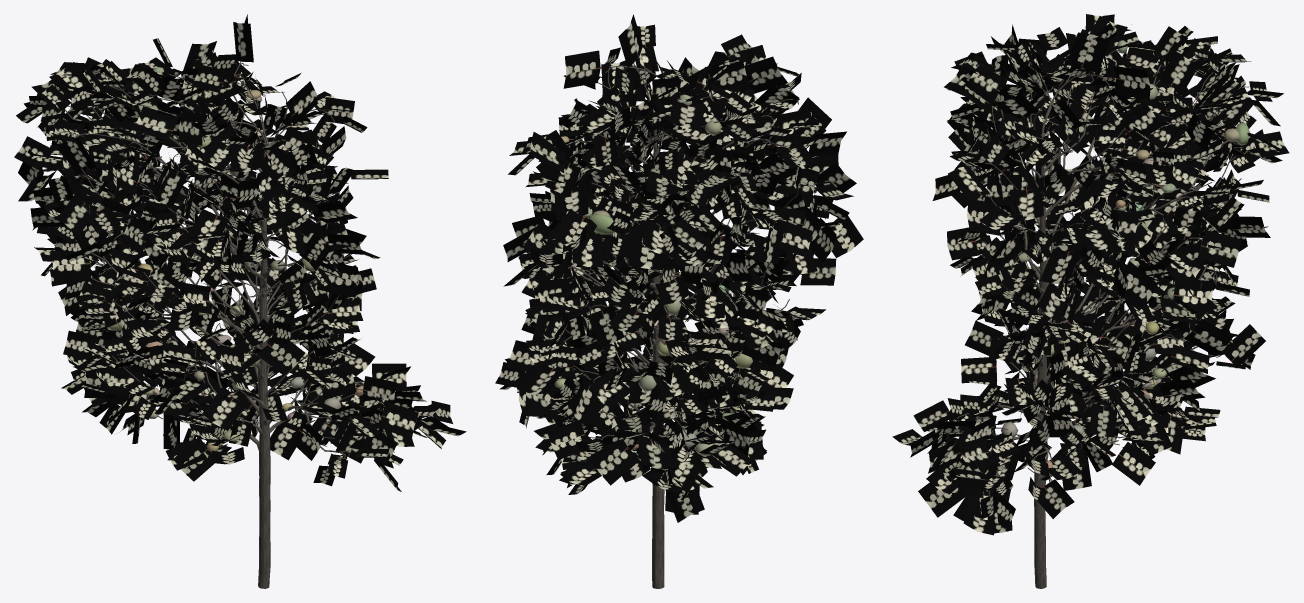
File: tree_08_ginkgo_young.glb
3 views of the same model, side by side, from view 1: azimuth 30°, elevation 25°; view 2: azimuth 150°, elevation 25°; view 3: azimuth 270°, elevation 25° (orthographic). The views are drawn at different scales.
Parts seen in each view (by area): view 1: tree_08_ginkgo_young.leaves, tree_08_ginkgo_young.trunk_branches, tree_08_ginkgo_young.foliage_volume; view 2: tree_08_ginkgo_young.leaves, tree_08_ginkgo_young.trunk_branches, tree_08_ginkgo_young.foliage_volume; view 3: tree_08_ginkgo_young.leaves, tree_08_ginkgo_young.trunk_branches, tree_08_ginkgo_young.foliage_volume.
Boxes of the visible parts, x1=… form: tree_08_ginkgo_young.leaves: x1=14, y1=14, x2=466, y2=491; tree_08_ginkgo_young.trunk_branches: x1=45, y1=61, x2=427, y2=588; tree_08_ginkgo_young.foliage_volume: x1=73, y1=67, x2=386, y2=452; tree_08_ginkgo_young.leaves: x1=495, y1=14, x2=863, y2=522; tree_08_ginkgo_young.trunk_branches: x1=546, y1=62, x2=825, y2=588; tree_08_ginkgo_young.foliage_volume: x1=554, y1=94, x2=752, y2=455; tree_08_ginkgo_young.leaves: x1=892, y1=14, x2=1289, y2=535; tree_08_ginkgo_young.trunk_branches: x1=941, y1=49, x2=1242, y2=588; tree_08_ginkgo_young.foliage_volume: x1=987, y1=40, x2=1249, y2=489.
Bounding box in the file's own units: 8.41 × 12.07 × 7.81.
Materials: 3 (2 with a texture image).
